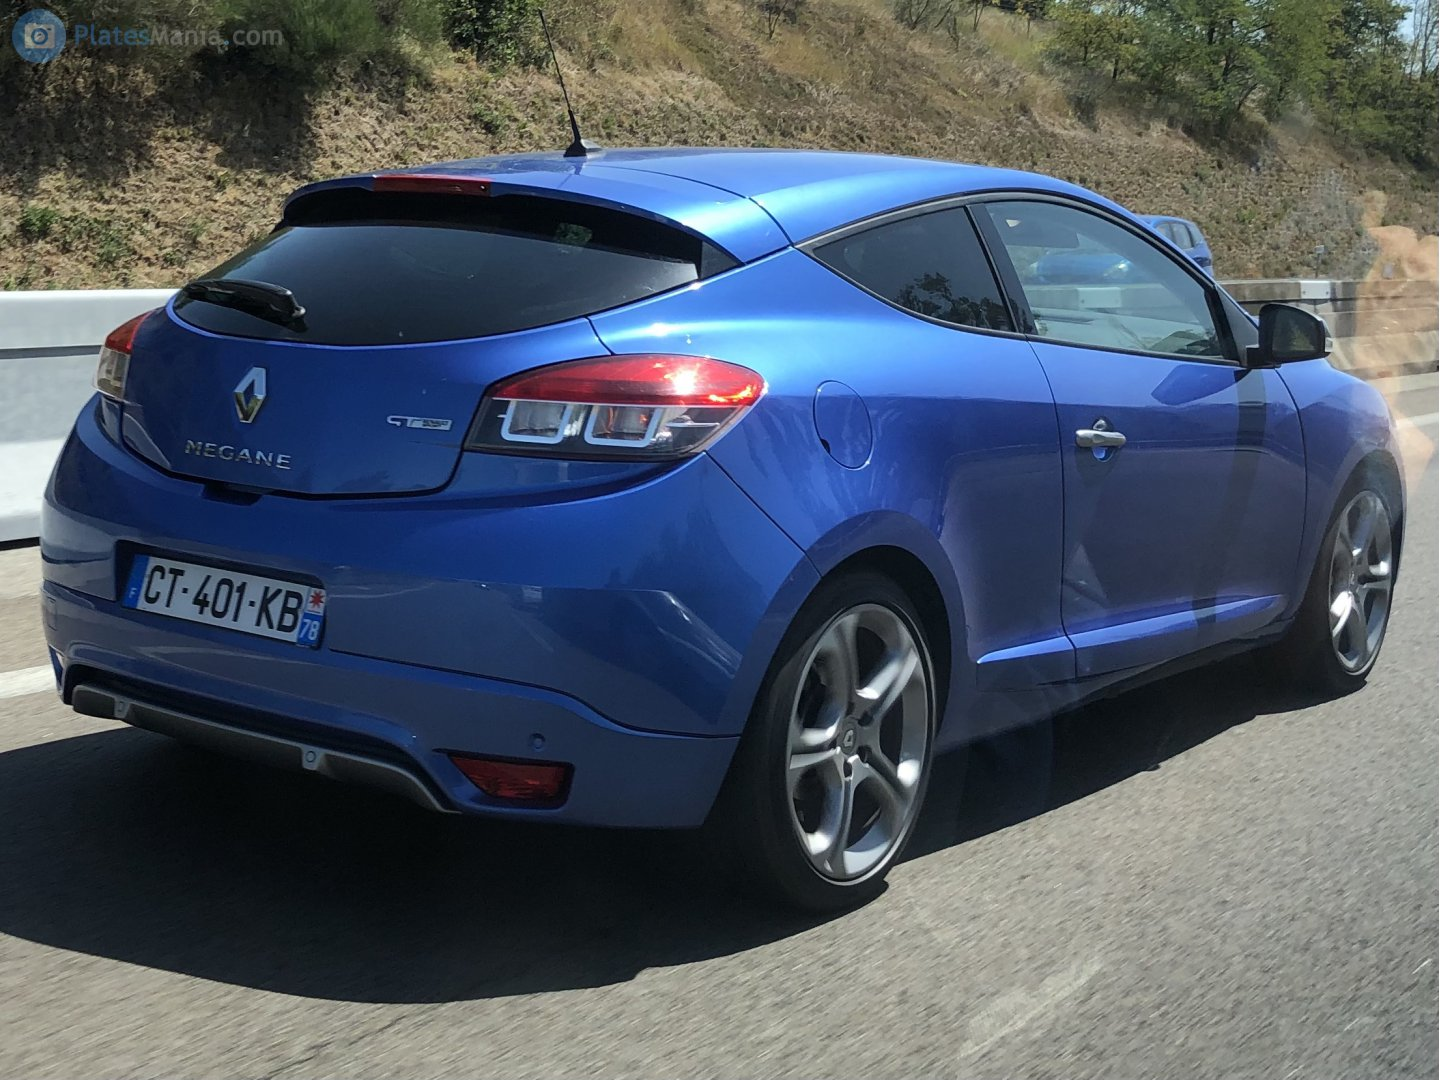licence plate: (124, 549, 332, 654)
